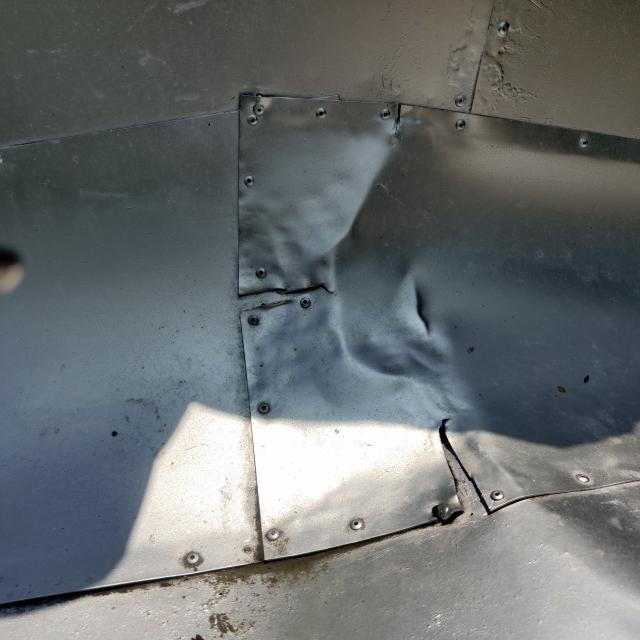crack: (412, 405, 514, 538), (230, 262, 344, 324), (382, 97, 409, 145)
dent: (314, 113, 518, 416)
